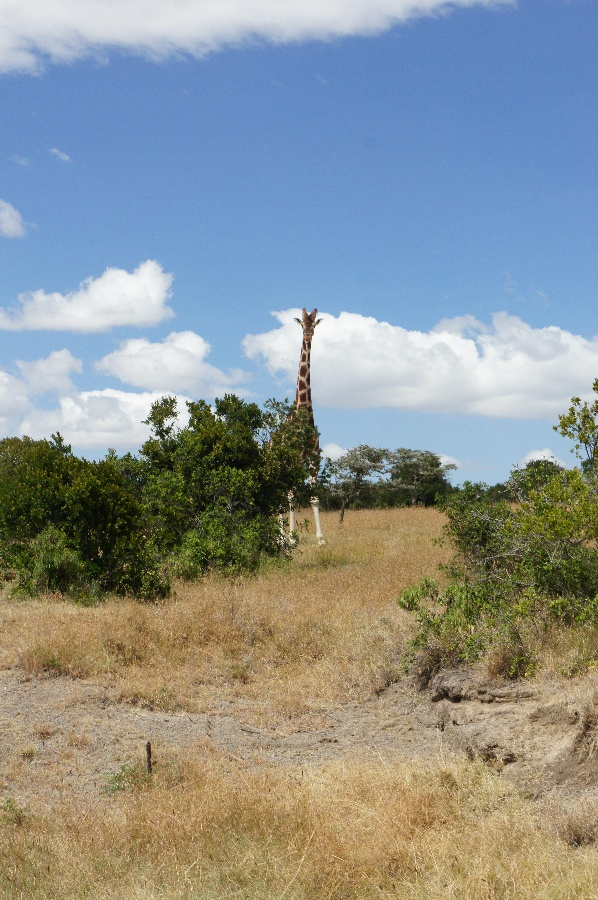giraffe: (247, 296, 352, 552)
